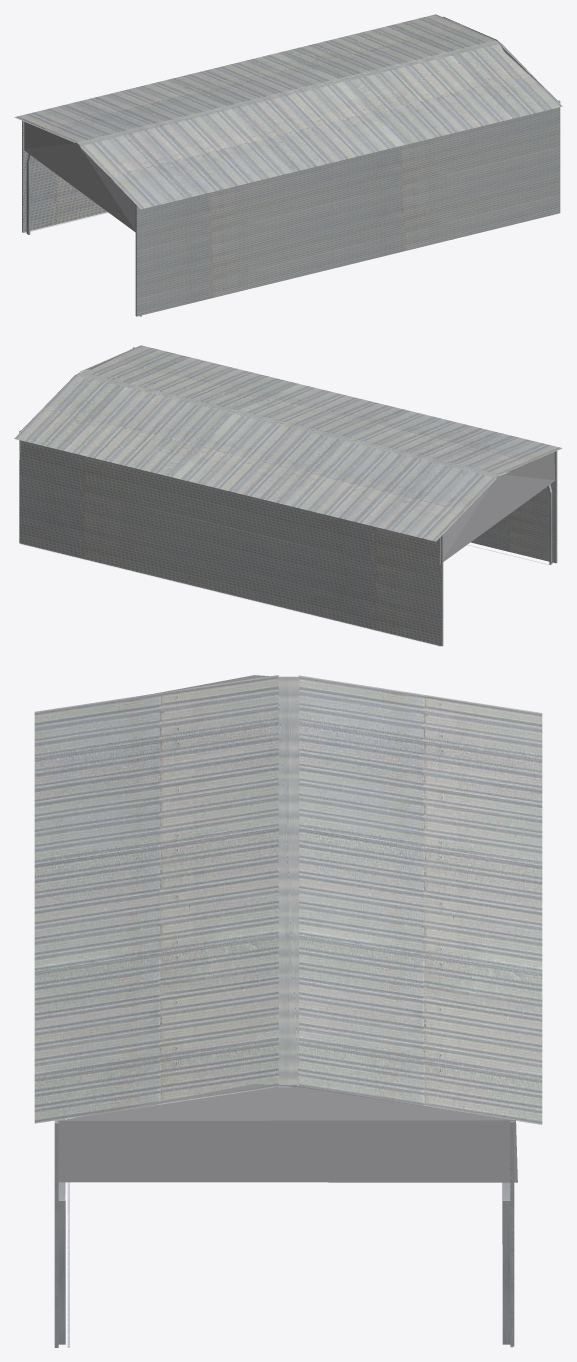
The model's file is hangar-06.gltf.
3 renders of one model, top to bottom at view 1: azimuth 30°, elevation 25°; view 2: azimuth 150°, elevation 25°; view 3: azimuth 270°, elevation 25°, orthographic. The views are drawn at different scales.
Visible parts, largest first — view 1: Cube.031, Plane.002, Plane, Cube.030, Cube.028, Plane.003; view 2: Cube.028, Plane, Plane.002, Cube.030, Cube.031, Plane.003, instance_0.046; view 3: Plane.002, Plane, Cube.029, Plane.003, Cube.022, Cube.005, Cube.031, Cube.028.
Boxes of the visible parts, x1,y1,x2,y2 form: Cube.031: (135, 100, 560, 316); Plane.002: (80, 43, 562, 209); Plane: (14, 14, 495, 142); Cube.030: (23, 119, 135, 232); Cube.028: (22, 121, 107, 232); Plane.003: (76, 40, 501, 145); Cube.028: (19, 430, 443, 646); Plane: (14, 376, 496, 541); Plane.002: (80, 345, 562, 474); Cube.030: (439, 452, 555, 564); Cube.031: (132, 347, 557, 563); Plane.003: (76, 372, 499, 477); instance_0.046: (21, 544, 440, 646); Plane.002: (34, 675, 278, 1123); Plane: (298, 675, 542, 1124); Cube.029: (57, 1084, 517, 1182); Plane.003: (278, 676, 299, 1087); Cube.022: (502, 1200, 510, 1344); Cube.005: (58, 1200, 65, 1344); Cube.031: (54, 1120, 58, 1347); Cube.028: (510, 1121, 514, 1346).
Size of the model in its own units: 22.11 by 6.49 by 11.39.
Materials: 45 (33 with a texture image).
